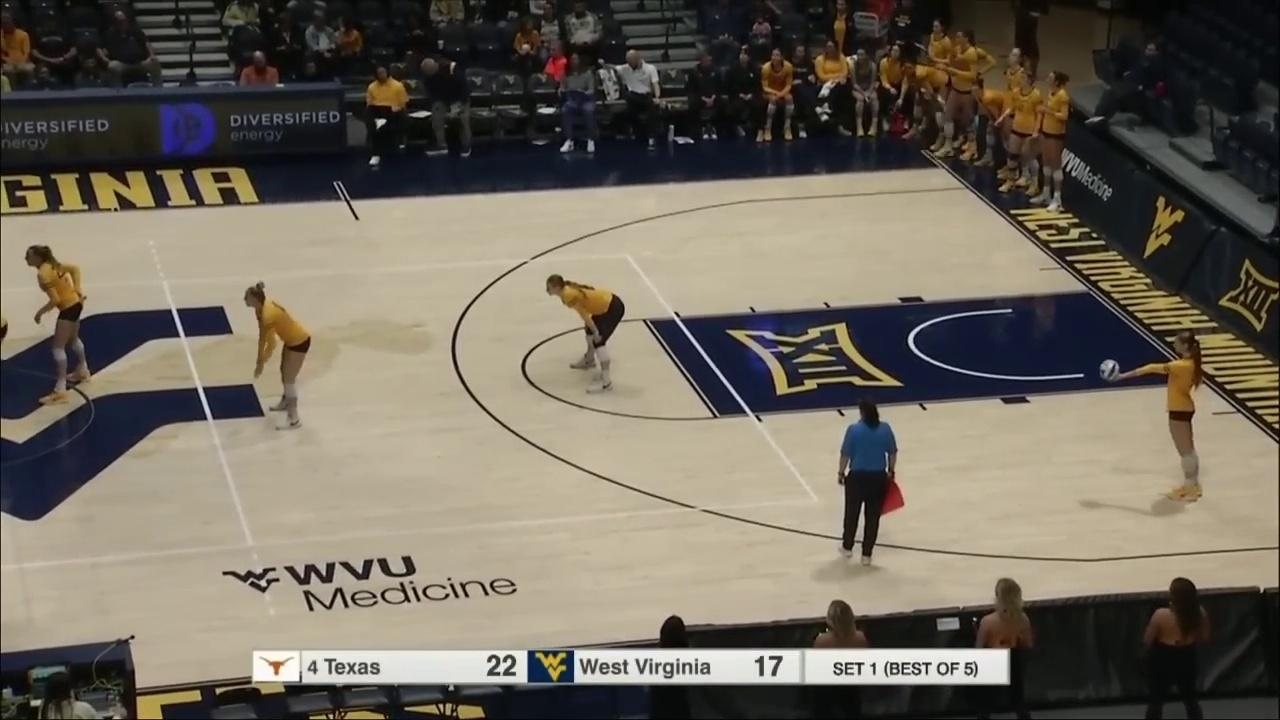player: (1117, 330, 1204, 501), (23, 246, 92, 400), (244, 282, 311, 429), (547, 275, 625, 391)
refree: (836, 402, 900, 563)
